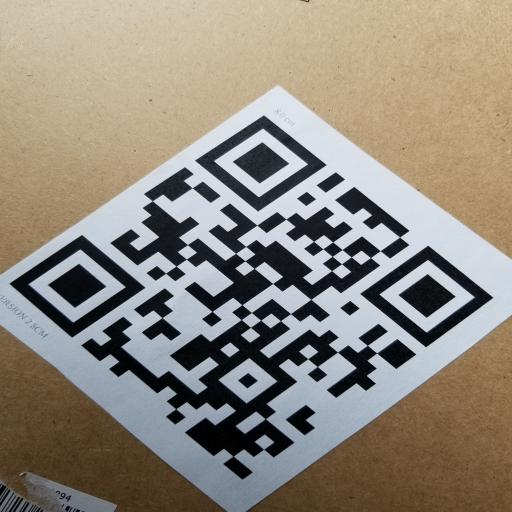QR_CODE: (3, 105, 505, 486)
